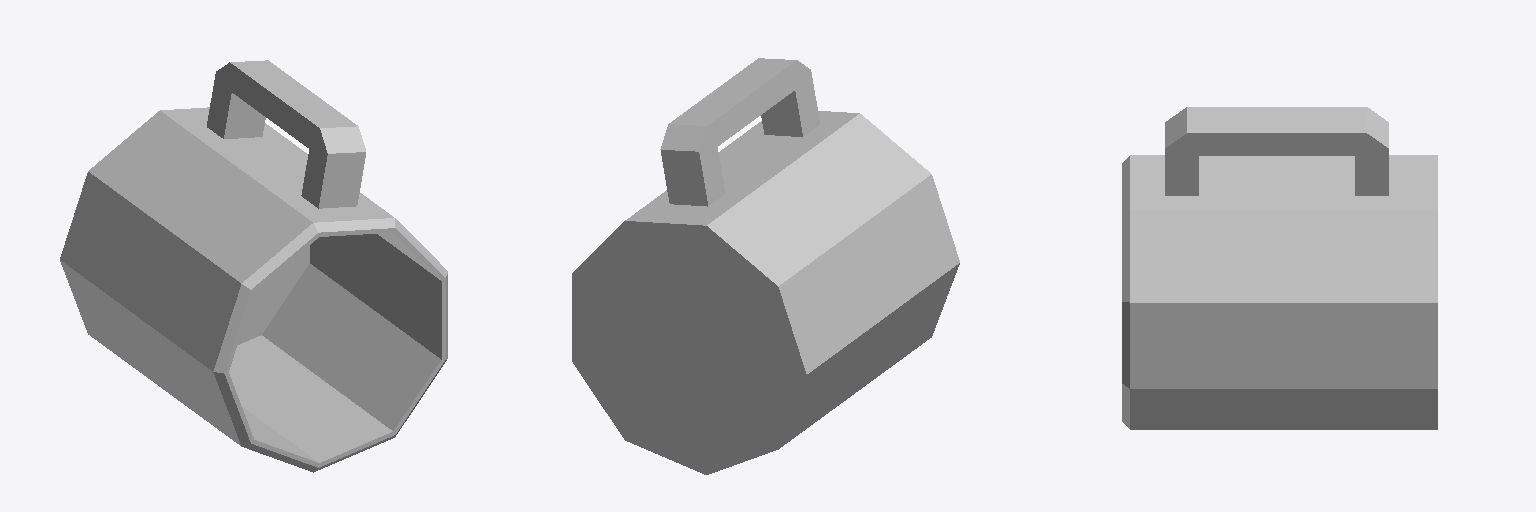
Rendered from cup.obj.
The picture shows the model from 3 angles: view 1: azimuth 30°, elevation 25°; view 2: azimuth 150°, elevation 25°; view 3: azimuth 270°, elevation 25°; orthographic projection.
Visible parts, largest first — view 1: polySurface1; view 2: polySurface1; view 3: polySurface1.
Part boxes in pixels (bbox=[...]): polySurface1: bbox=[60, 60, 447, 472]; polySurface1: bbox=[572, 58, 959, 474]; polySurface1: bbox=[1122, 107, 1437, 429].
Bounding box in the file's own units: 155 × 198 × 180.